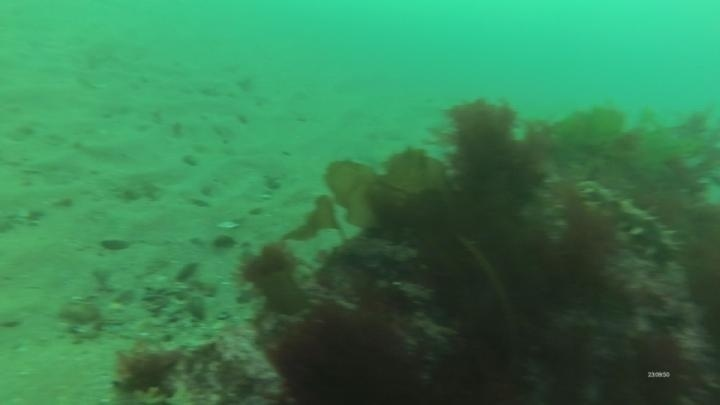holothurian: (576, 177, 681, 265)
